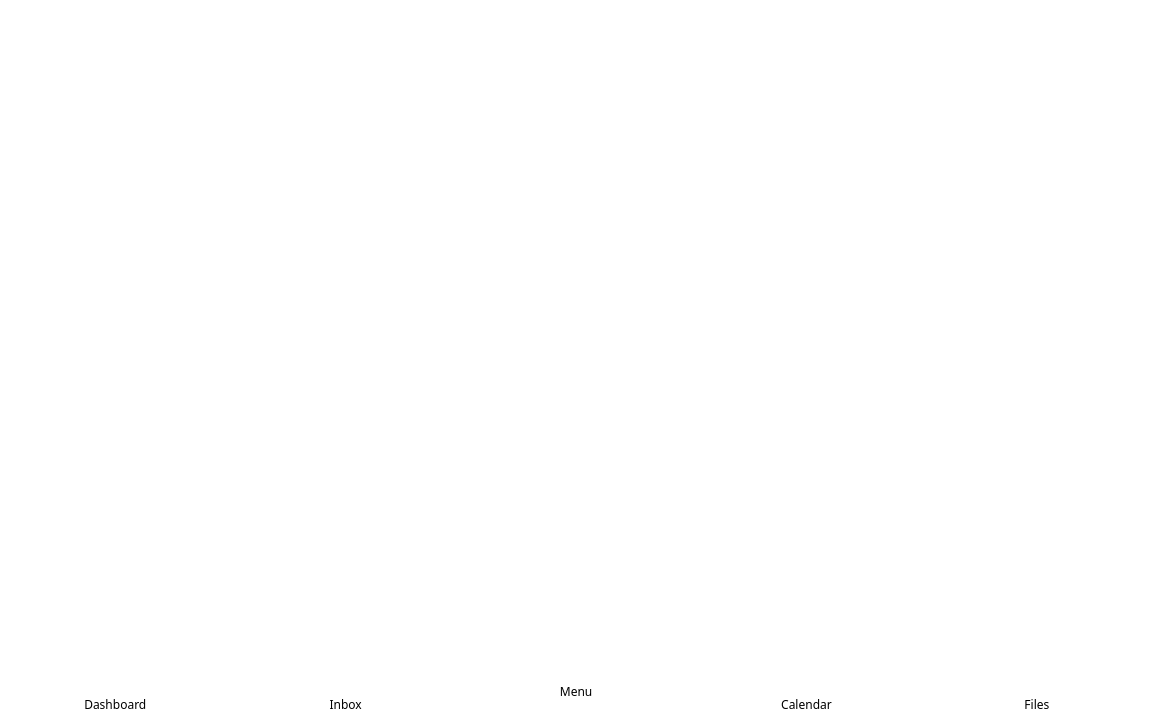
Test: TBottomNav › renders #profile and #footer slots
Step 1. Click the button with class "t-bottom-nav__slot--center" → (576, 692), box [461,664,691,719]
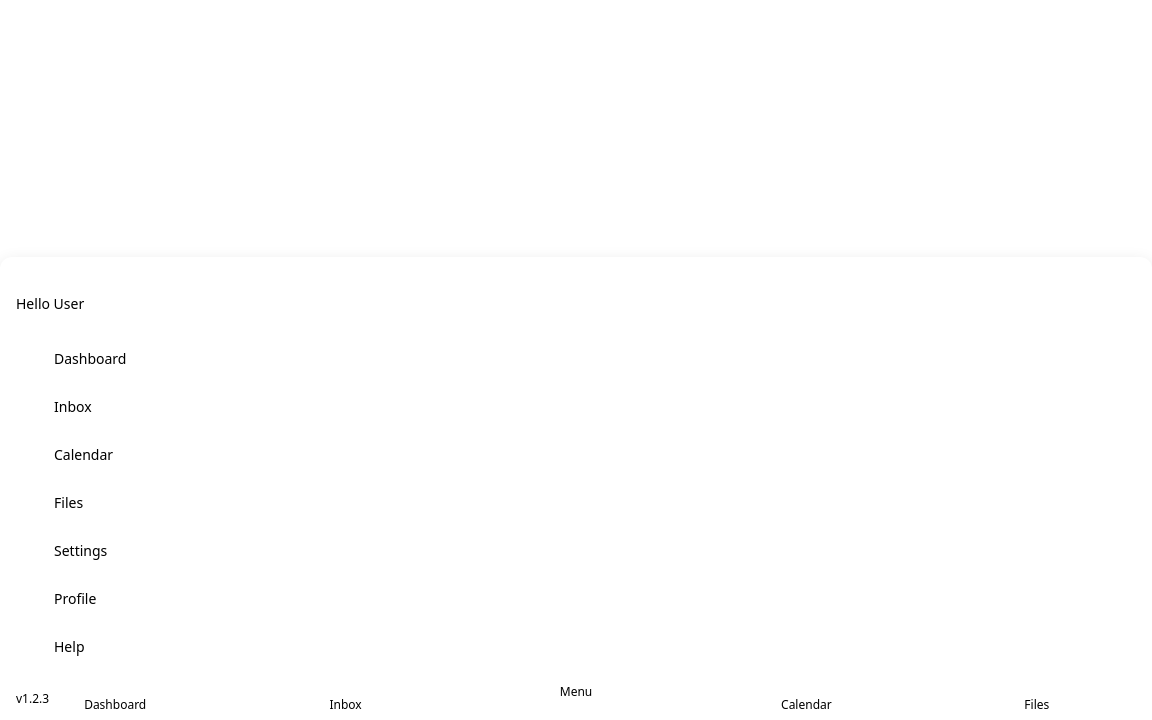
Now the text with class "test-profile" reads "Hello User", box [16,294,84,313]
Now the text with class "test-footer" reads "v1.2.3", box [16,690,49,707]
